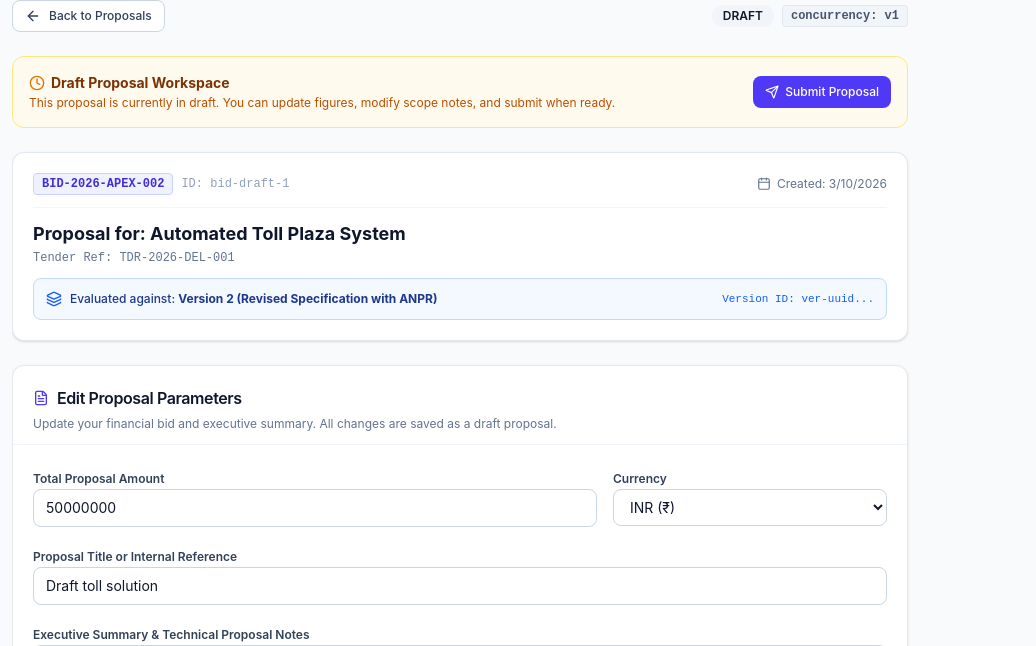
Phase 07 — Bidder & Bid Management Frontend Vertical Slice › 3. Bidder workspace allows DRAFT edits and locks when SUBMITTED
Check: the text "Draft Proposal Workspace" is shown, box [51, 73, 230, 93]
Check: the text "concurrency: v1" is shown, box [782, 5, 908, 27]
# Save draft edit
Replace the text in the number field showing "50000000" with "49500000": (315, 508) [33, 489, 597, 527]
(page scrolled)
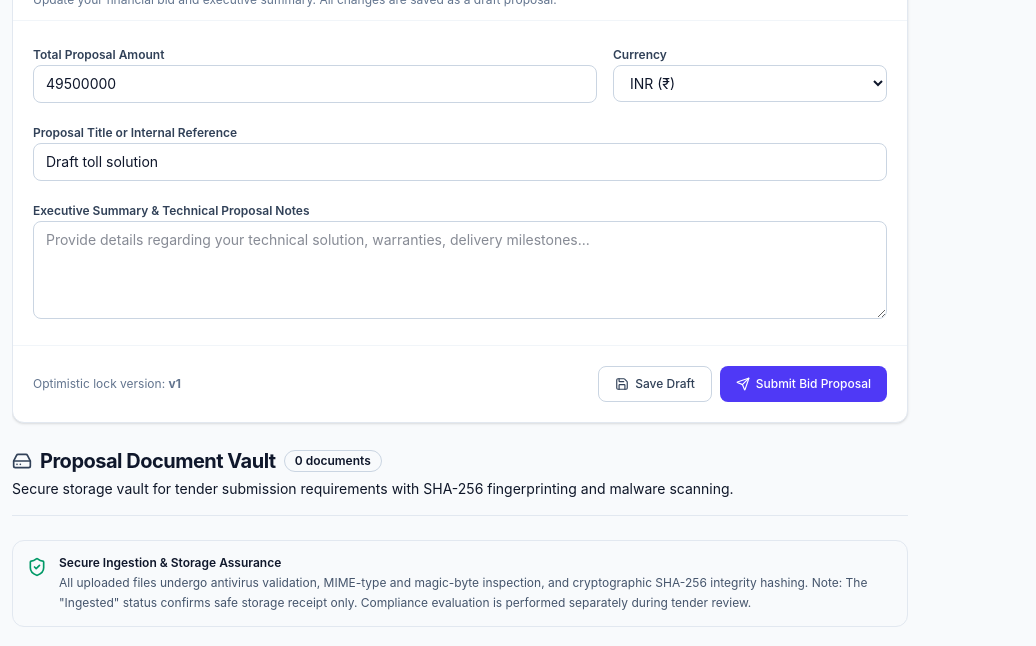
Click the button "Save Draft": (655, 384) [598, 366, 712, 402]
(page scrolled)
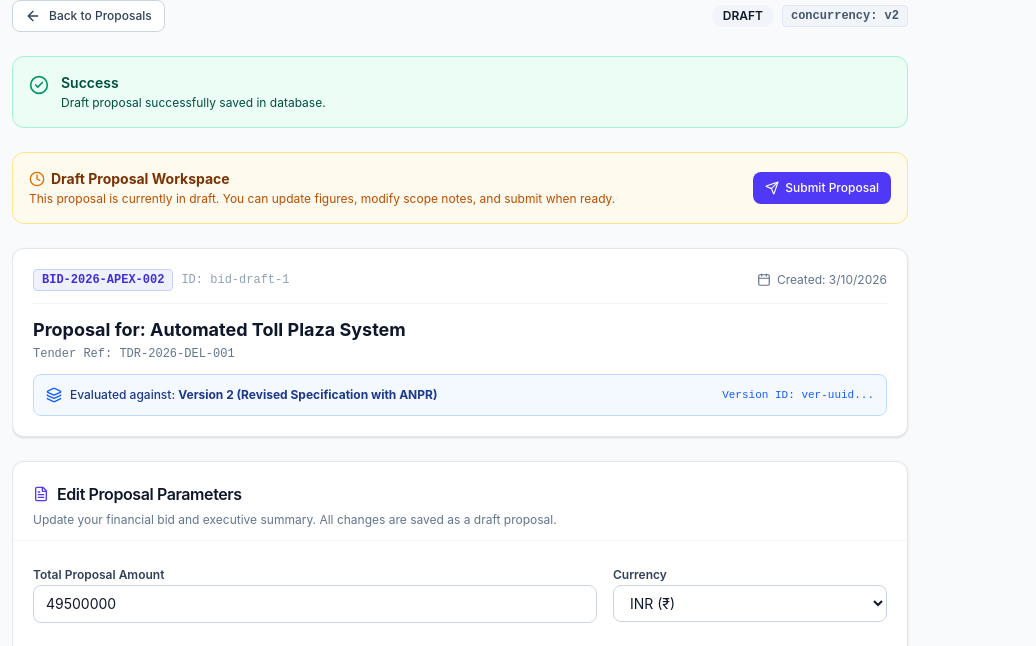
Check: the text "Draft proposal successfully saved in database." is shown, box [61, 95, 326, 111]
